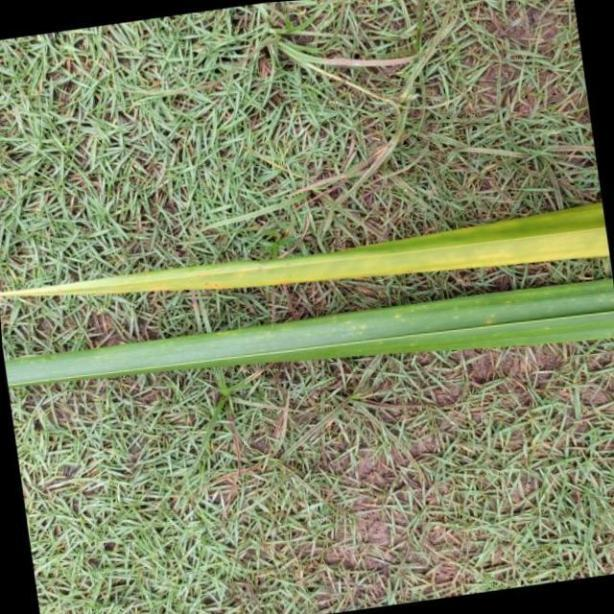nitrogen: (0, 278, 614, 392), (0, 205, 614, 300)
